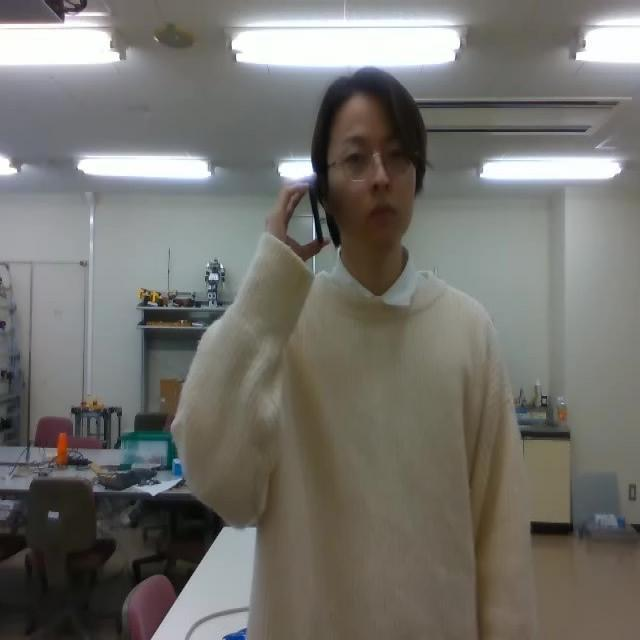Phone: (306, 177, 326, 247)
